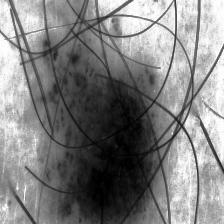Benign Marking or Mole: (38, 40, 158, 216)
